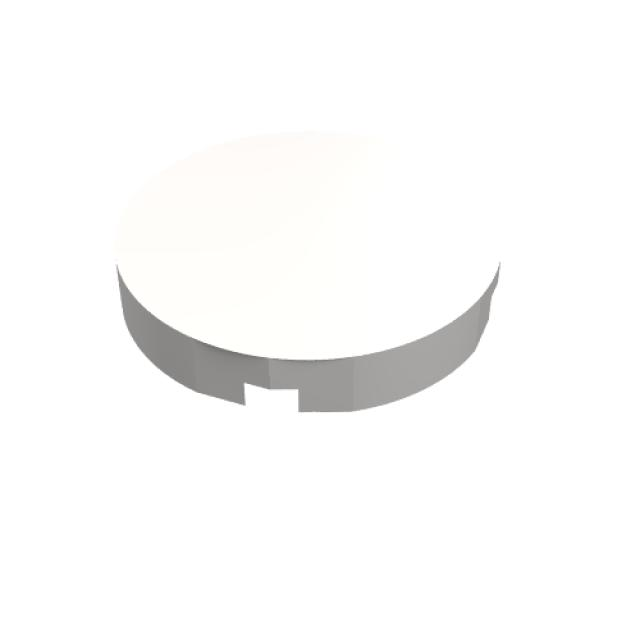White_Small: (109, 116, 511, 416)
